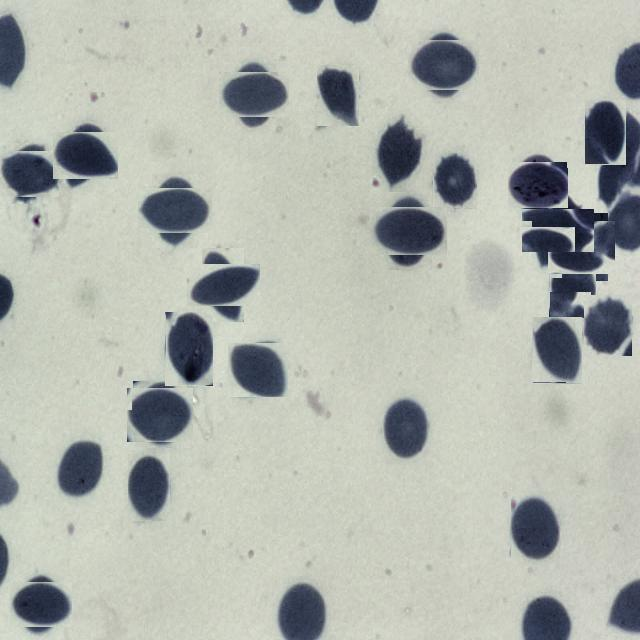red blood cell: (376, 200, 439, 262), (413, 35, 474, 96), (552, 216, 612, 278), (130, 384, 190, 444), (145, 181, 205, 241), (165, 312, 213, 386), (529, 202, 587, 260), (225, 65, 282, 124), (532, 317, 582, 384), (229, 341, 287, 398), (195, 256, 252, 314), (511, 495, 560, 562), (58, 127, 114, 183), (382, 396, 430, 460), (56, 438, 105, 500), (13, 578, 68, 632), (584, 295, 632, 356), (549, 256, 596, 318), (2, 147, 56, 200), (377, 124, 422, 187), (128, 454, 170, 521), (584, 100, 626, 165), (317, 65, 359, 126), (433, 153, 477, 209)
ring: (511, 158, 565, 212)
